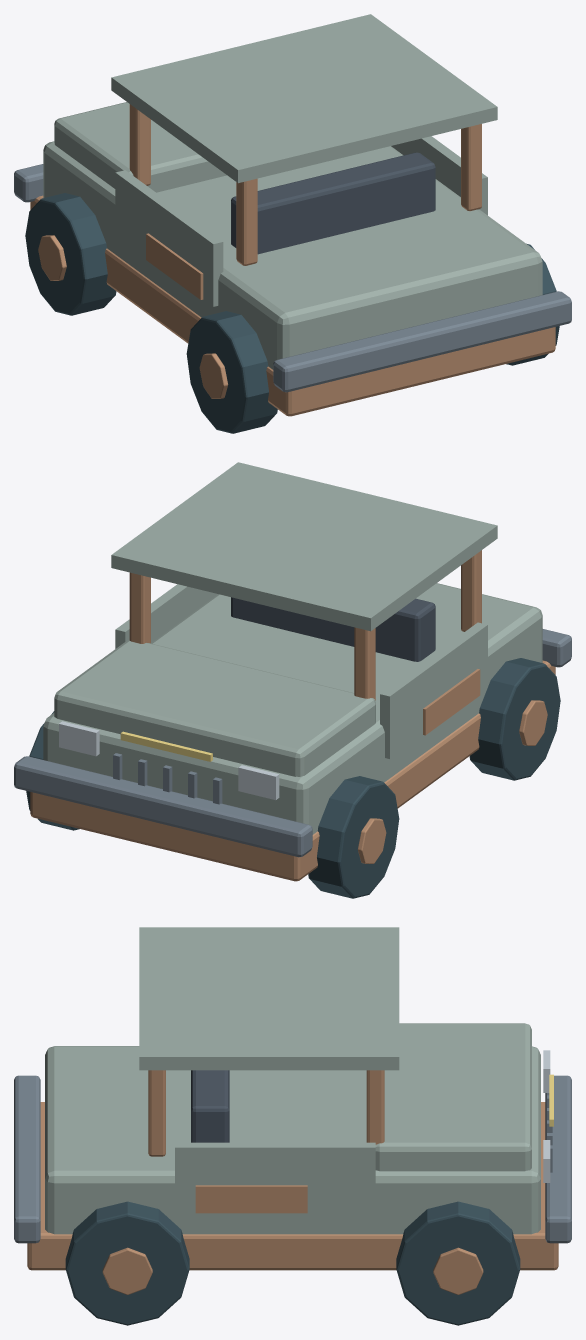
Rendered from golden_surveyrover.glb.
3 renders of one model, top to bottom at view 1: azimuth 30°, elevation 25°; view 2: azimuth 150°, elevation 25°; view 3: azimuth 270°, elevation 25°, orthographic. The views are drawn at different scales.
Visible parts, largest first — view 1: GS_SurveyRover_Body_WeatheredMetal, GS_SurveyRover_Roof_WeatheredMetal, GS_SurveyRover_Seat_PanelPlastic, GS_SurveyRover_Chassis_OxideRust, GS_SurveyRover_Bumper4.5_DarkMetal, GS_SurveyRover_Bonnet_WeatheredMetal, GS_SurveyRover_Tire-1_0_EyeInk, GS_SurveyRover_Tire-1_1_EyeInk, GS_SurveyRover_DoorPanel-1_WeatheredMetal, GS_SurveyRover_DoorPanel1_WeatheredMetal, GS_SurveyRover_Pillar-1_2.3_OxideRust, GS_SurveyRover_Pillar1_2.3_OxideRust (+6 smaller); view 2: GS_SurveyRover_Roof_WeatheredMetal, GS_SurveyRover_Body_WeatheredMetal, GS_SurveyRover_Bonnet_WeatheredMetal, GS_SurveyRover_Chassis_OxideRust, GS_SurveyRover_Bumper-4.5_DarkMetal, GS_SurveyRover_Tire-1_1_EyeInk, GS_SurveyRover_Tire-1_0_EyeInk, GS_SurveyRover_DoorPanel-1_WeatheredMetal, GS_SurveyRover_Seat_PanelPlastic, GS_SurveyRover_DoorPanel1_WeatheredMetal, GS_SurveyRover_RustPatch-1_OxideRust, GS_SurveyRover_Pillar-1_-1.4_OxideRust (+9 smaller); view 3: GS_SurveyRover_Body_WeatheredMetal, GS_SurveyRover_Roof_WeatheredMetal, GS_SurveyRover_Bonnet_WeatheredMetal, GS_SurveyRover_Chassis_OxideRust, GS_SurveyRover_DoorPanel1_WeatheredMetal, GS_SurveyRover_Tire1_0_EyeInk, GS_SurveyRover_Tire1_1_EyeInk, GS_SurveyRover_Bumper4.5_DarkMetal, GS_SurveyRover_Bumper-4.5_DarkMetal, GS_SurveyRover_RustPatch1_OxideRust, GS_SurveyRover_Seat_PanelPlastic, GS_SurveyRover_Hub1_0_OxideRust (+3 smaller).
Boxes of the visible parts, x1,y1,x2,y2 form: GS_SurveyRover_Body_WeatheredMetal: [43, 141, 542, 369]; GS_SurveyRover_Roof_WeatheredMetal: [111, 14, 497, 183]; GS_SurveyRover_Seat_PanelPlastic: [231, 152, 435, 254]; GS_SurveyRover_Chassis_OxideRust: [30, 195, 555, 416]; GS_SurveyRover_Bumper4.5_DarkMetal: [273, 291, 571, 392]; GS_SurveyRover_Bonnet_WeatheredMetal: [54, 102, 226, 192]; GS_SurveyRover_Tire-1_0_EyeInk: [25, 193, 116, 315]; GS_SurveyRover_Tire-1_1_EyeInk: [186, 311, 277, 433]; GS_SurveyRover_DoorPanel-1_WeatheredMetal: [115, 170, 223, 306]; GS_SurveyRover_DoorPanel1_WeatheredMetal: [391, 136, 487, 215]; GS_SurveyRover_Pillar-1_2.3_OxideRust: [236, 178, 257, 265]; GS_SurveyRover_Pillar1_2.3_OxideRust: [461, 124, 481, 211]; GS_SurveyRover_Roof_WeatheredMetal: [111, 462, 497, 631]; GS_SurveyRover_Body_WeatheredMetal: [43, 583, 542, 834]; GS_SurveyRover_Bonnet_WeatheredMetal: [54, 640, 375, 776]; GS_SurveyRover_Chassis_OxideRust: [30, 660, 555, 881]; GS_SurveyRover_Bumper-4.5_DarkMetal: [14, 756, 312, 857]; GS_SurveyRover_Tire-1_1_EyeInk: [469, 658, 560, 780]; GS_SurveyRover_Tire-1_0_EyeInk: [308, 776, 399, 898]; GS_SurveyRover_DoorPanel-1_WeatheredMetal: [380, 622, 487, 758]; GS_SurveyRover_Seat_PanelPlastic: [231, 597, 435, 661]; GS_SurveyRover_DoorPanel1_WeatheredMetal: [115, 584, 217, 648]; GS_SurveyRover_RustPatch-1_OxideRust: [423, 669, 480, 735]; GS_SurveyRover_Pillar-1_-1.4_OxideRust: [354, 627, 375, 700]; GS_SurveyRover_Body_WeatheredMetal: [45, 1046, 540, 1234]; GS_SurveyRover_Roof_WeatheredMetal: [139, 927, 399, 1070]; GS_SurveyRover_Bonnet_WeatheredMetal: [375, 1023, 531, 1171]; GS_SurveyRover_Chassis_OxideRust: [27, 1102, 558, 1270]; GS_SurveyRover_DoorPanel1_WeatheredMetal: [175, 1142, 375, 1211]; GS_SurveyRover_Tire1_0_EyeInk: [396, 1201, 520, 1325]; GS_SurveyRover_Tire1_1_EyeInk: [65, 1201, 189, 1325]; GS_SurveyRover_Bumper4.5_DarkMetal: [14, 1075, 40, 1243]; GS_SurveyRover_Bumper-4.5_DarkMetal: [545, 1075, 571, 1243]; GS_SurveyRover_RustPatch1_OxideRust: [195, 1185, 307, 1213]; GS_SurveyRover_Seat_PanelPlastic: [191, 1070, 229, 1142]; GS_SurveyRover_Hub1_0_OxideRust: [433, 1247, 483, 1294].
Bounding box in the file's own units: 6.5 × 4.77 × 9.45.
